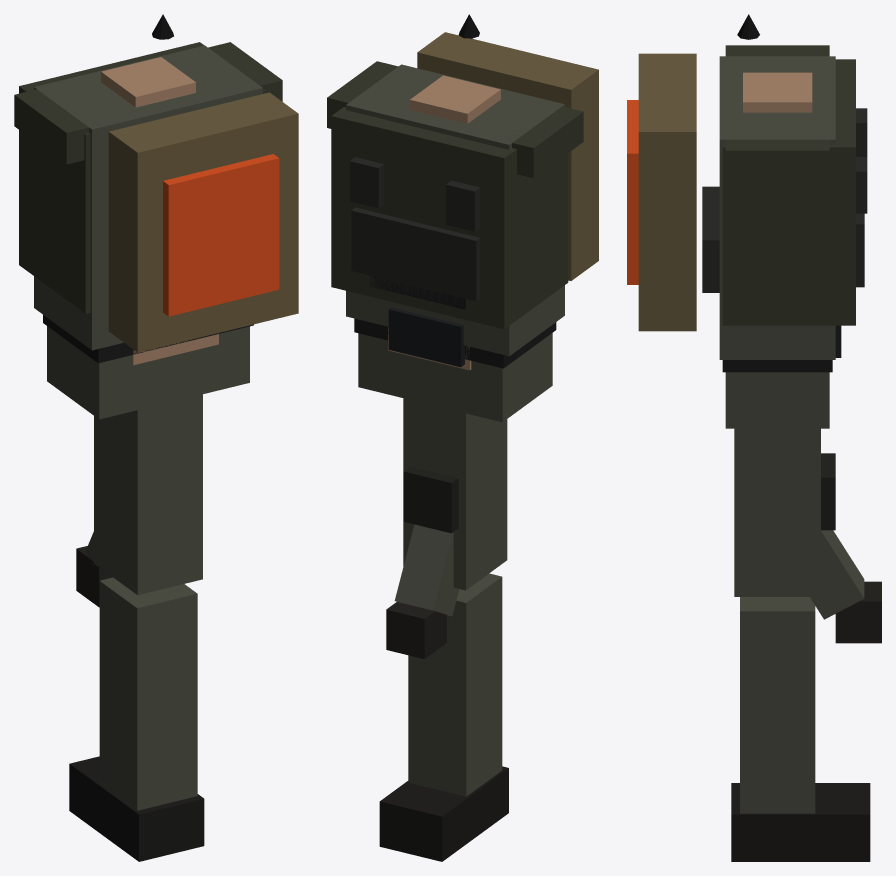
Rendered from operator_thermite.glb.
The picture shows the model from 3 angles, left to right: view 1: azimuth 30°, elevation 25°; view 2: azimuth 150°, elevation 25°; view 3: azimuth 270°, elevation 25°; orthographic projection. The views are drawn at different scales.
Parts seen in each view (by area): view 1: torso, legL, torso_glow, hips, armL, head; view 2: torso, legL, hips, armL, head; view 3: torso, legL, hips, armL, torso_glow, head.
Boxes of the visible parts, <box> form: torso: <box>14,14,298,352</box>; legL: <box>69,394,204,861</box>; torso_glow: <box>163,154,279,316</box>; hips: <box>43,315,253,419</box>; armL: <box>76,531,112,607</box>; head: <box>132,334,218,365</box>; torso: <box>327,14,598,356</box>; legL: <box>379,398,508,861</box>; hips: <box>354,318,556,422</box>; armL: <box>386,524,459,659</box>; head: <box>369,276,471,370</box>; torso: <box>638,14,867,359</box>; legL: <box>731,428,870,861</box>; hips: <box>722,360,832,428</box>; armL: <box>810,530,881,643</box>; torso_glow: <box>627,100,638,284</box>; head: <box>702,186,841,357</box>.
Bounding box in the file's own units: 0.43 × 1.58 × 0.44.
